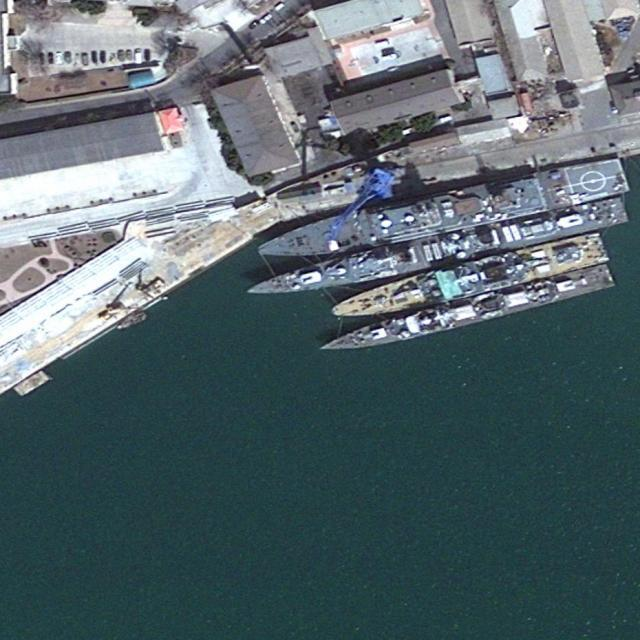Destroyer: (253, 154, 628, 268), (244, 196, 628, 305)
Frigate: (317, 261, 615, 361)
Other Warship: (328, 230, 608, 328)
